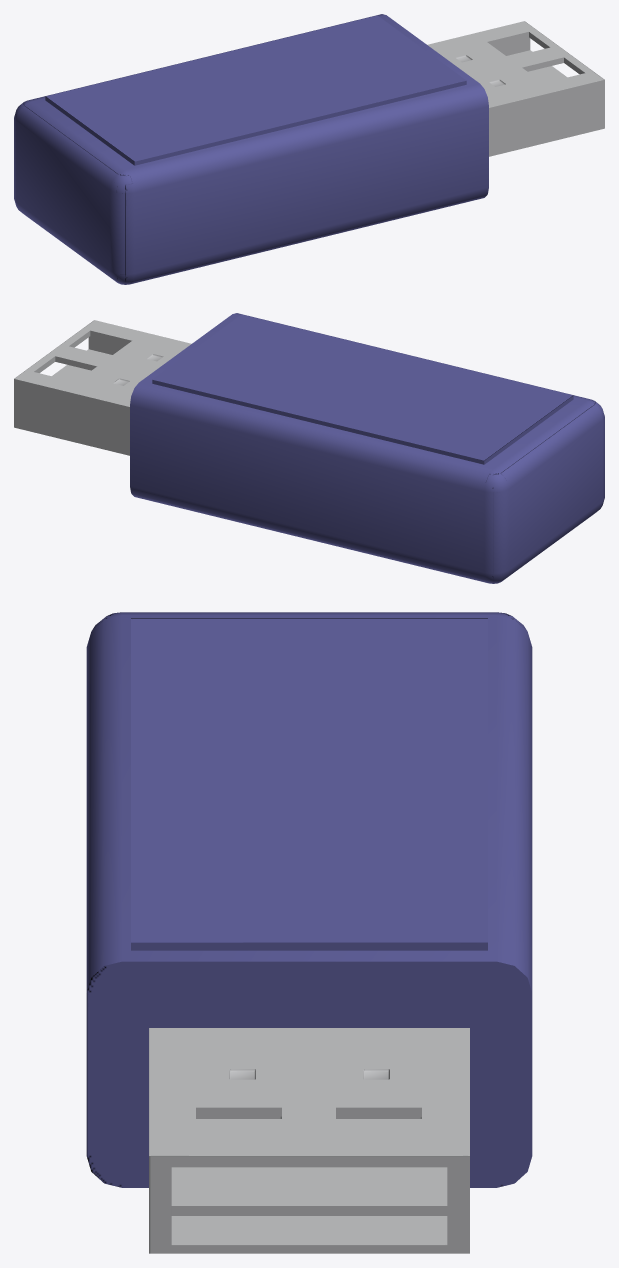
File: Pendrive Final.FBX
3 renders of one model, top to bottom at view 1: azimuth 30°, elevation 25°; view 2: azimuth 150°, elevation 25°; view 3: azimuth 270°, elevation 25°, orthographic. The views are drawn at different scales.
Parts seen in each view (by area): view 1: ChamferBox003, Box013, Box012; view 2: ChamferBox003, Box013, Box012; view 3: Box013, ChamferBox003, Box012.
Part boxes in pixels (left/top/right/bottom): ChamferBox003: left=14, top=14, right=488, bottom=284; Box013: left=45, top=15, right=466, bottom=165; Box012: left=427, top=21, right=604, bottom=156; ChamferBox003: left=130, top=313, right=604, bottom=583; Box013: left=152, top=314, right=573, bottom=464; Box012: left=14, top=320, right=191, bottom=455; Box013: left=131, top=618, right=487, bottom=950; ChamferBox003: left=86, top=612, right=532, bottom=1187; Box012: left=149, top=1028, right=469, bottom=1253.
Size of the model in its own units: 64.94 by 14.5 by 25.
3 materials, 3 textured.
